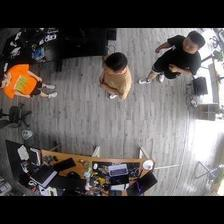normal: (139, 31, 205, 87), (1, 64, 58, 100), (99, 52, 134, 101)
